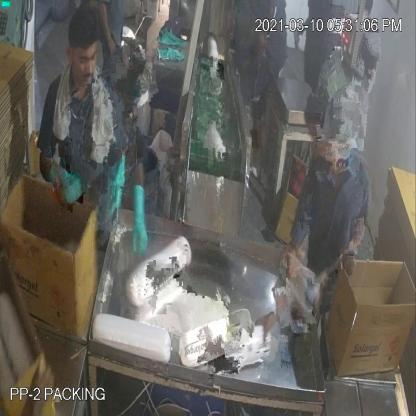glove: (126, 174, 159, 272)
no_glove: (306, 204, 372, 318)
